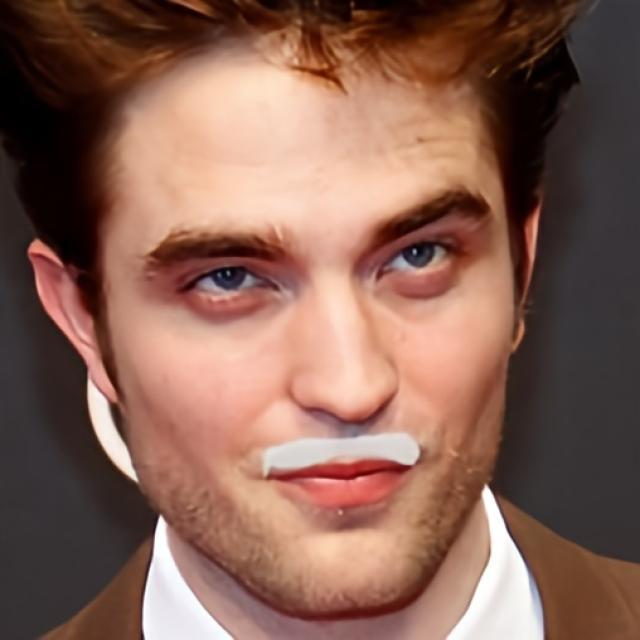content: (100, 38, 518, 619)
